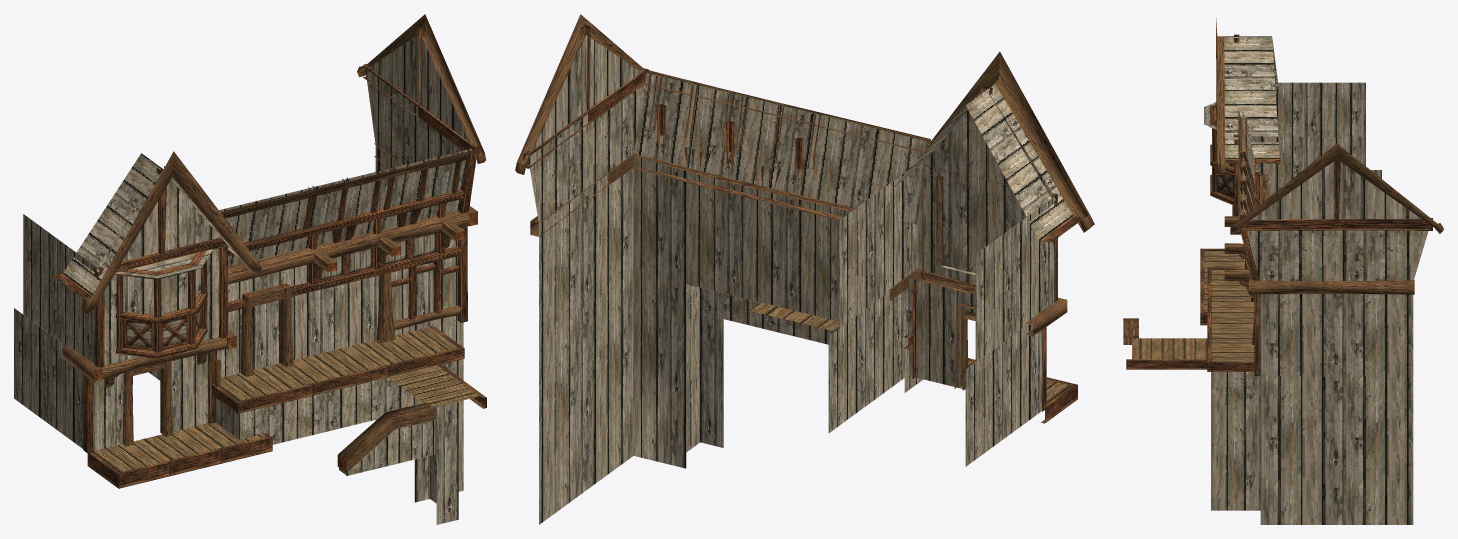
Rendered from LAKETOWN_EXTERIOR_PS_LT_CORNERFISHHOUSE99__GX.fbx.
3 views of the same model, side by side, from view 1: azimuth 30°, elevation 25°; view 2: azimuth 150°, elevation 25°; view 3: azimuth 270°, elevation 25° (orthographic). The views are drawn at different scales.
Parts seen in each view (by area): view 1: LAKETOWN_EXTERIOR_PS_LT_CORNERFISHHOUSE99__GX; view 2: LAKETOWN_EXTERIOR_PS_LT_CORNERFISHHOUSE99__GX; view 3: LAKETOWN_EXTERIOR_PS_LT_CORNERFISHHOUSE99__GX.
Boxes of the visible parts, box(x1,y1,x2,y2) form: LAKETOWN_EXTERIOR_PS_LT_CORNERFISHHOUSE99__GX: box(14, 14, 486, 524); LAKETOWN_EXTERIOR_PS_LT_CORNERFISHHOUSE99__GX: box(515, 14, 1094, 524); LAKETOWN_EXTERIOR_PS_LT_CORNERFISHHOUSE99__GX: box(1123, 18, 1443, 524).
Bounding box in the file's own units: 145327 × 149262 × 112831.
Materials: 11 (11 with a texture image).
